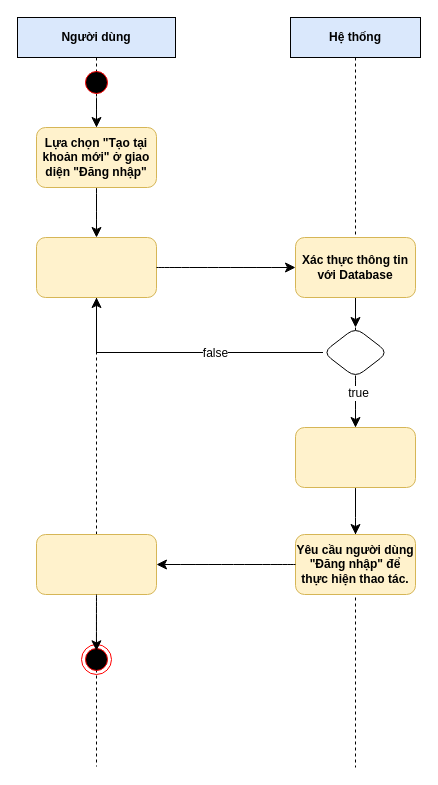
Some shapes in this 438 by 785 pixel diagram are drawn without their labels. Each missing label, with the centre of its shape:
"Hiển thị giao diện người dùng" belongs at point (96, 564).
"Thực hiện điền thông tin đăng ký" belongs at point (96, 267).
"Điều hướng người dùng đến trang chủ." belongs at point (355, 457).
